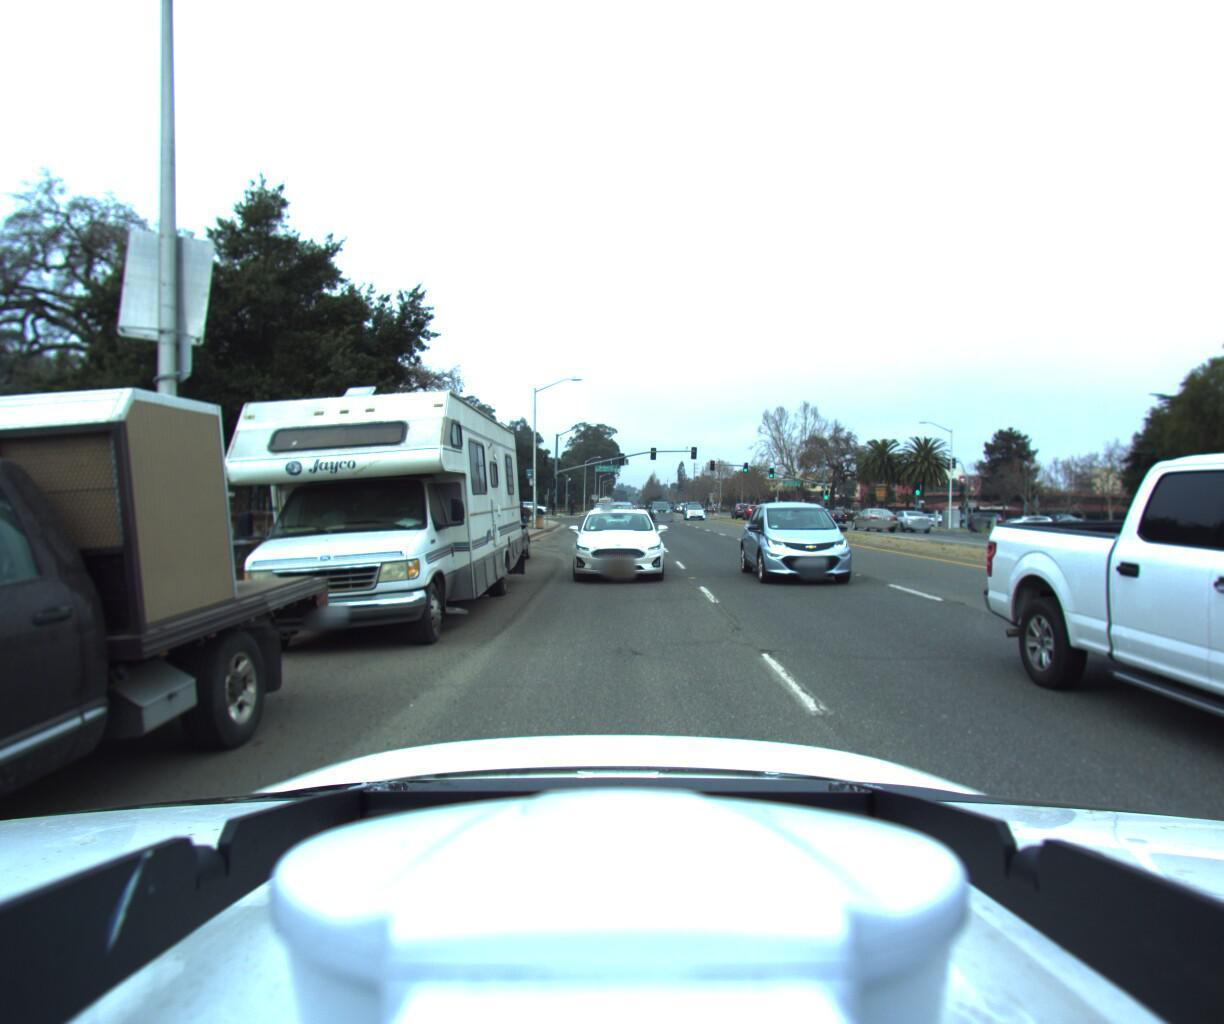bicycle: (563, 498, 583, 517)
car: (0, 0, 329, 1024), (1035, 214, 1224, 1024), (740, 497, 881, 590), (556, 504, 661, 582), (436, 509, 530, 568), (1099, 506, 1203, 548), (845, 505, 893, 529), (877, 508, 924, 530), (646, 501, 670, 520), (740, 503, 766, 521), (727, 501, 752, 519), (684, 501, 707, 519)
other_vehicle: (162, 351, 526, 652)
